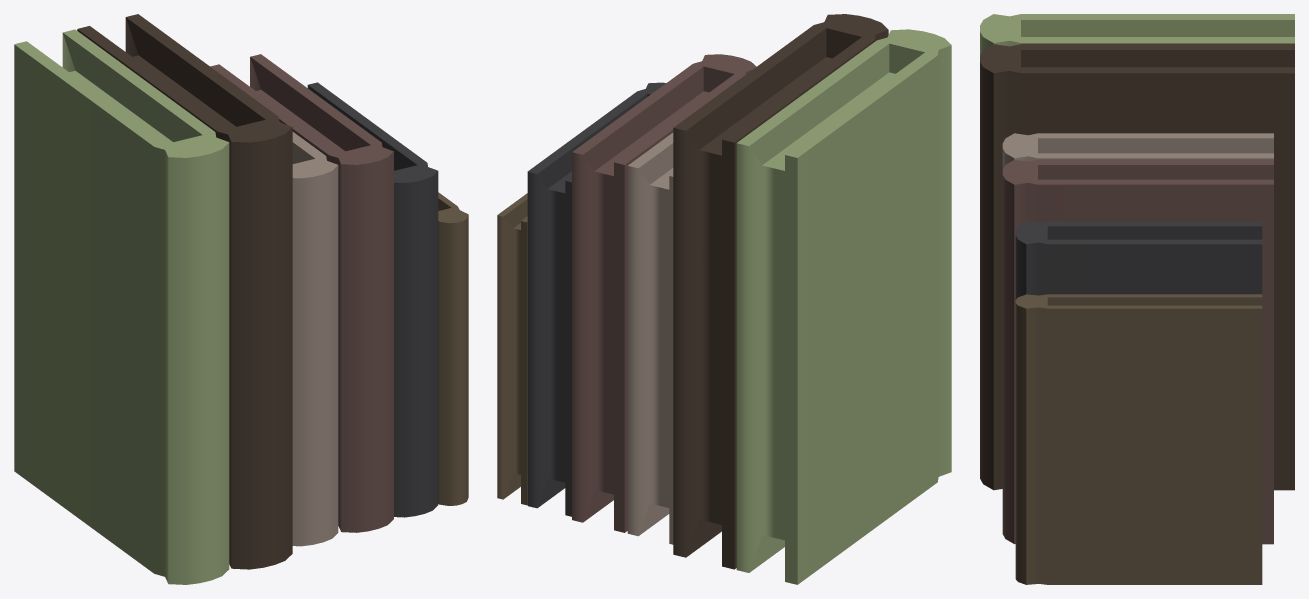
File: colored book1 livingroom.fbx
3 views of the same model, side by side, from view 1: azimuth 30°, elevation 25°; view 2: azimuth 150°, elevation 25°; view 3: azimuth 270°, elevation 25° (orthographic). The views are drawn at different scales.
Visible parts, largest first — view 1: pCube5, pCube1, pCube3, pCube2, pCube4, pCube6; view 2: pCube5, pCube1, pCube3, pCube2, pCube4, pCube6; view 3: pCube6, pCube1, pCube3, pCube4, pCube5, pCube2.
Part boxes in pixels (x1,y1,x2,y2): pCube5: (14,29,229,584); pCube1: (77,14,292,569); pCube3: (210,54,393,532); pCube2: (292,132,338,546); pCube4: (307,82,438,517); pCube6: (438,192,468,505); pCube5: (736,29,951,584); pCube1: (673,14,888,569); pCube3: (572,54,756,532); pCube2: (627,132,673,544); pCube4: (527,82,665,516); pCube6: (497,193,527,505); pCube6: (1015,294,1262,584); pCube1: (980,44,1294,490); pCube3: (1002,159,1273,544); pCube4: (1015,221,1262,299); pCube5: (980,14,1294,55); pCube2: (1002,133,1273,169).
Bounding box in the file's own units: 0.2328 × 0.3017 × 0.2049.
